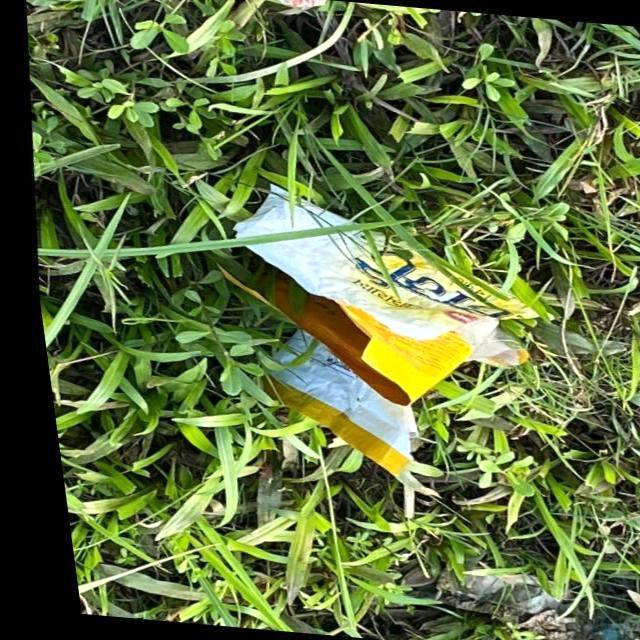packet: (179, 179, 521, 466)
